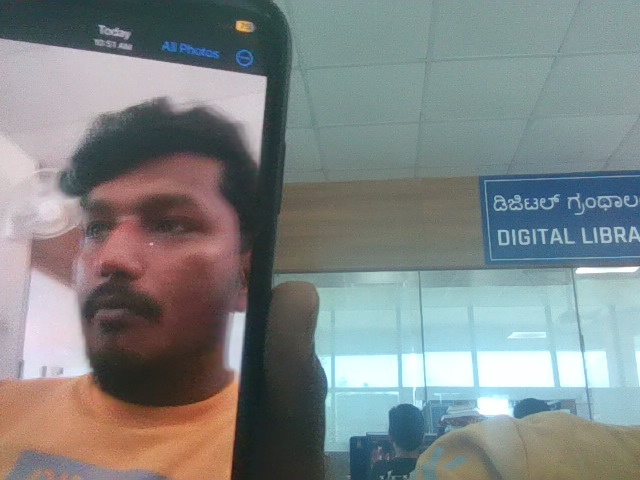fake: (46, 73, 269, 389)
